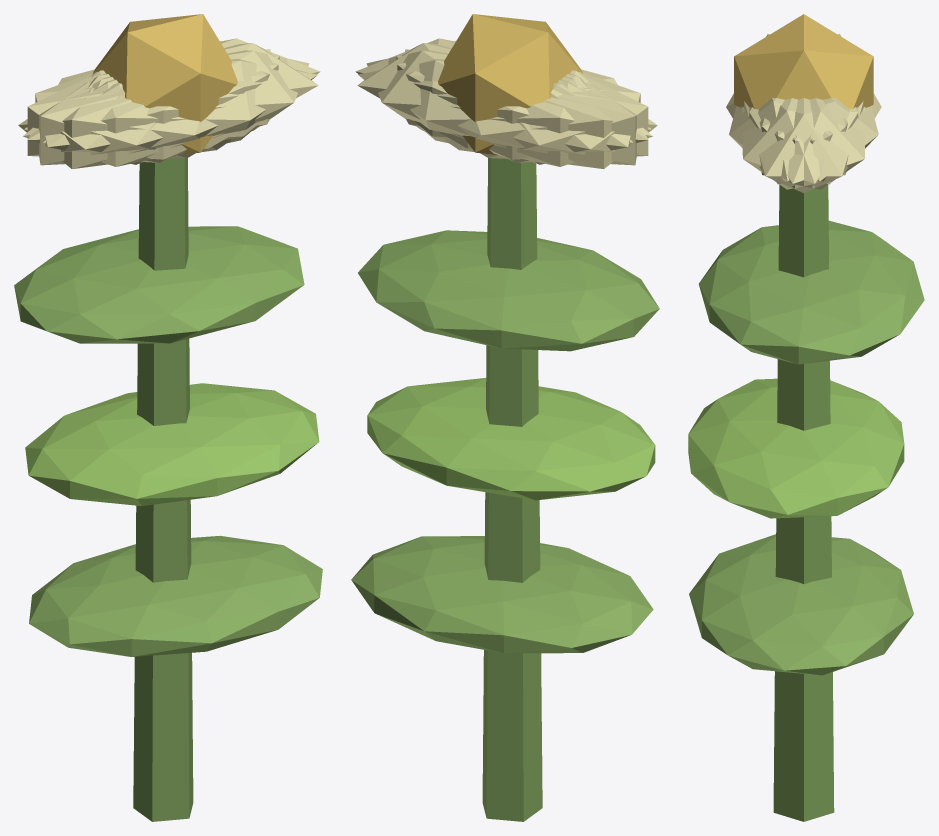
File: decalobanthus-peltatus.glb
3 renders of one model, left to right at view 1: azimuth 30°, elevation 25°; view 2: azimuth 150°, elevation 25°; view 3: azimuth 270°, elevation 25°, orthographic.
Visible parts, largest first — view 1: leaf1, leaf0, leaf2, stem, center, petal1, petal6, petal2, petal5, petal7, petal0, petal4 (+2 smaller); view 2: leaf2, leaf0, leaf1, stem, center, petal8, petal3, petal7, petal4, petal2, petal0, petal5 (+2 smaller); view 3: leaf2, leaf0, leaf1, stem, center, petal0, petal5, petal4, petal1, petal8.
Part boxes in pixels (<box>): leaf1: <box>25,383,319,506</box>; leaf0: <box>29,535,322,656</box>; leaf2: <box>14,226,304,343</box>; stem: <box>133,158,193,821</box>; center: <box>92,14,237,154</box>; petal1: <box>23,58,317,166</box>; petal6: <box>18,72,231,168</box>; petal2: <box>39,49,270,165</box>; petal5: <box>43,50,309,159</box>; petal7: <box>27,55,279,162</box>; petal0: <box>92,43,318,149</box>; petal4: <box>24,38,320,140</box>; leaf2: <box>358,230,659,351</box>; leaf0: <box>351,536,653,653</box>; leaf1: <box>367,378,655,500</box>; stem: <box>482,158,542,821</box>; center: <box>438,14,582,154</box>; petal8: <box>358,58,652,166</box>; petal3: <box>444,72,657,168</box>; petal7: <box>405,49,636,165</box>; petal4: <box>366,50,632,159</box>; petal2: <box>396,55,648,162</box>; petal0: <box>357,43,583,149</box>; petal5: <box>355,38,651,140</box>; leaf2: <box>698,220,924,364</box>; leaf0: <box>689,534,913,675</box>; leaf1: <box>688,378,904,518</box>; stem: <box>773,184,834,821</box>; center: <box>734,14,873,109</box>; petal0: <box>744,98,863,192</box>; petal5: <box>742,98,858,189</box>; petal4: <box>749,98,865,189</box>; petal1: <box>729,97,847,181</box>; petal8: <box>759,97,878,181</box>.
Size of the model in its own units: 0.1452 by 0.3761 by 0.1038.
